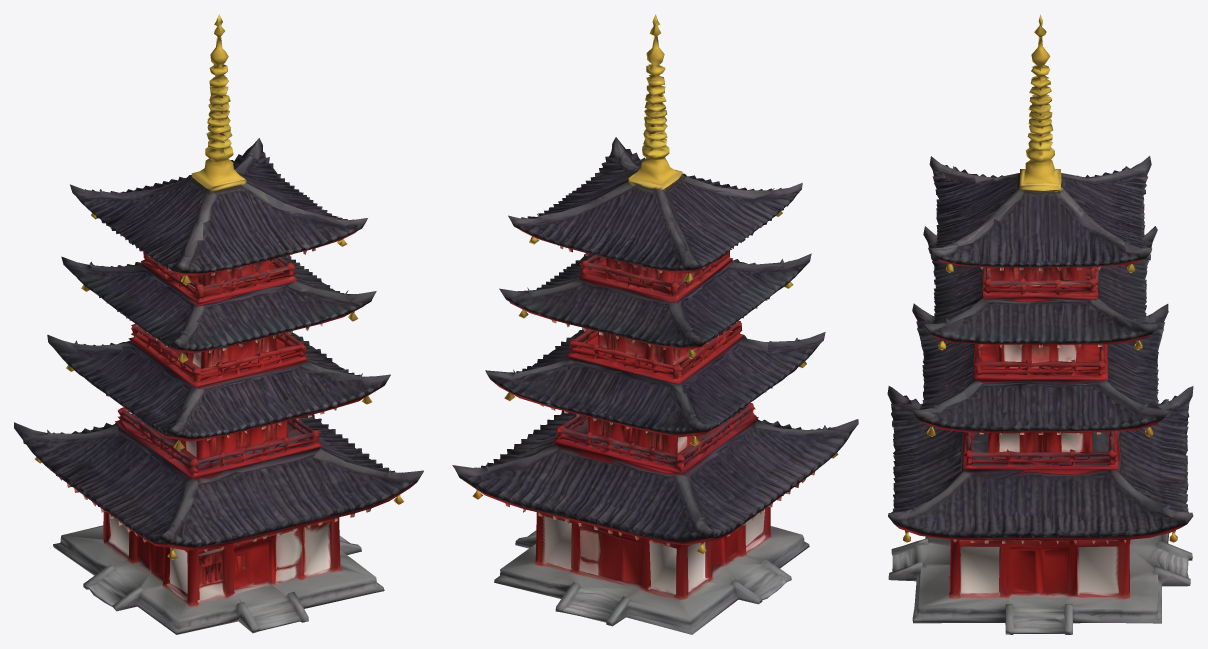
The model's file is bld_japan_pagoda.fbx.
The picture shows the model from 3 angles, left to right: view 1: azimuth 30°, elevation 25°; view 2: azimuth 150°, elevation 25°; view 3: azimuth 270°, elevation 25°; orthographic projection.
Parts seen in each view (by area): view 1: bld_japan_pagoda_LOD0; view 2: bld_japan_pagoda_LOD0; view 3: bld_japan_pagoda_LOD0.
Boxes of the visible parts, <box> form: bld_japan_pagoda_LOD0: <box>14,14,423,634</box>; bld_japan_pagoda_LOD0: <box>452,14,858,634</box>; bld_japan_pagoda_LOD0: <box>887,14,1193,634</box>.
Size of what is drawn, in the model's own units: 0.4861 by 0.9832 by 0.4865.
